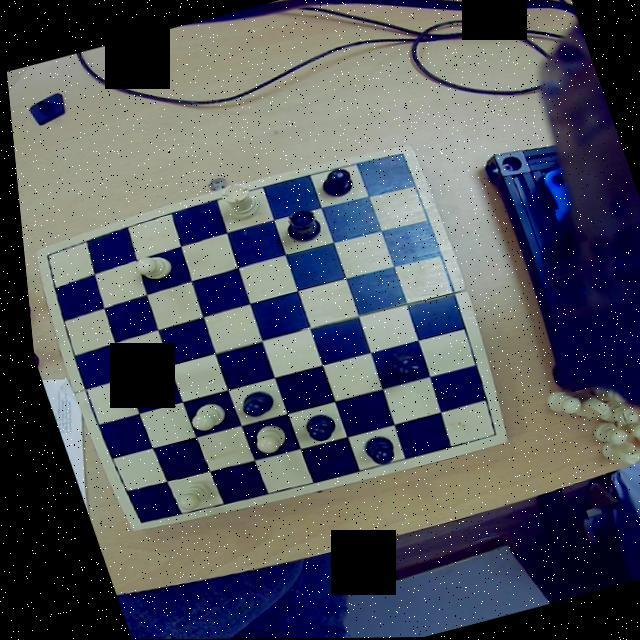chess-table-corners: (382, 145, 412, 171), (472, 418, 499, 444), (115, 510, 148, 530), (29, 247, 57, 270)
